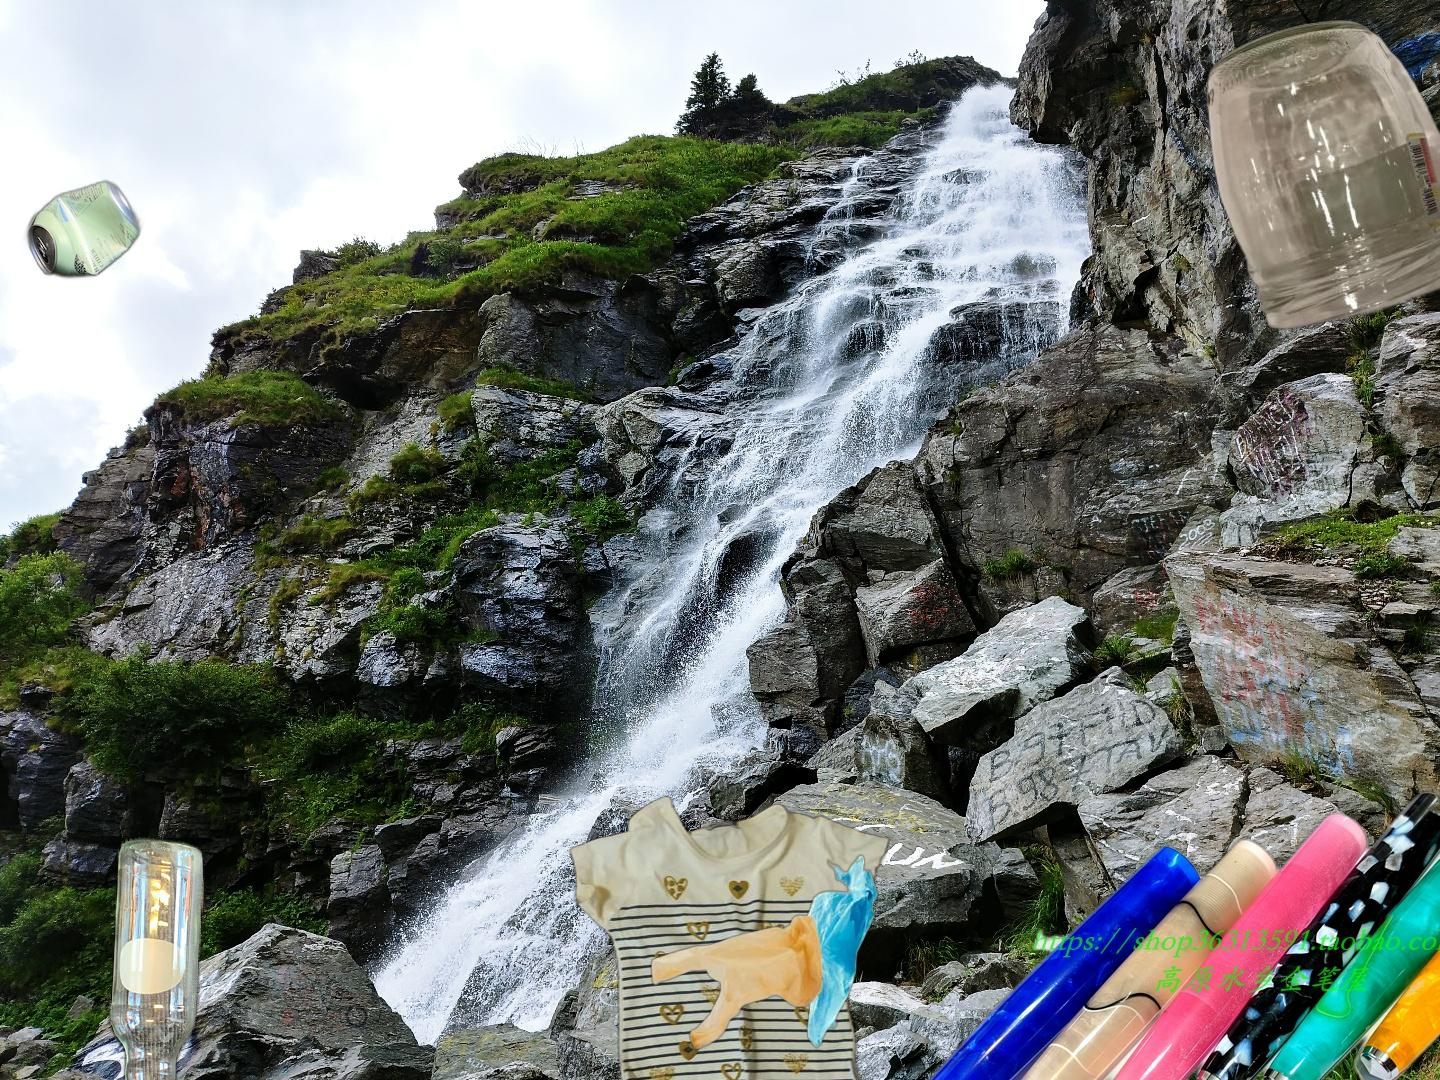clothes: (564, 793, 896, 1080)
glass: (1202, 18, 1440, 334), (104, 832, 210, 1080)
metal-cans: (20, 175, 146, 282)
penholder: (854, 787, 1440, 1080)
plastic-bag: (649, 852, 880, 1052)
trashbox-cardboard: (1092, 265, 1440, 650)
